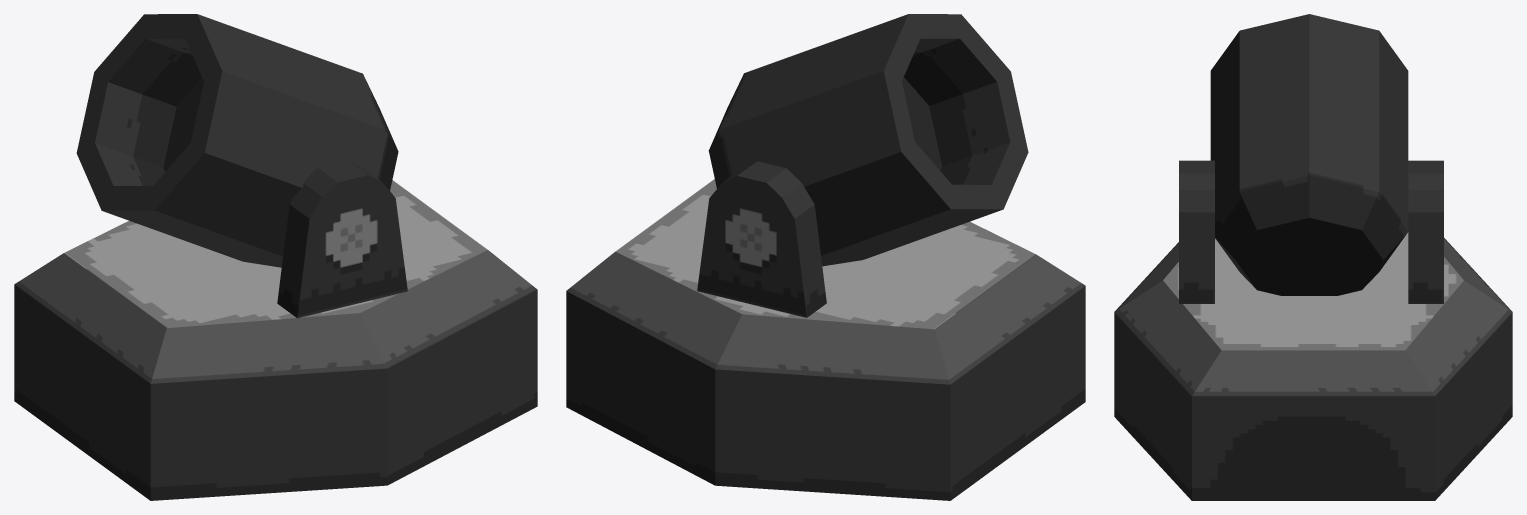
The model's file is confettigun.FBX.
The picture shows the model from 3 angles, left to right: view 1: azimuth 30°, elevation 25°; view 2: azimuth 150°, elevation 25°; view 3: azimuth 270°, elevation 25°; orthographic projection. The views are drawn at different scales.
Visible parts, largest first — view 1: Box001; view 2: Box001; view 3: Box001.
Boxes of the visible parts, x1,y1,x2,y2 form: Box001: [14, 14, 537, 500]; Box001: [566, 14, 1085, 500]; Box001: [1114, 14, 1512, 500].
Bounding box in the file's own units: 1.01 × 1.02 × 1.01.
Materials: 1 (1 with a texture image).
